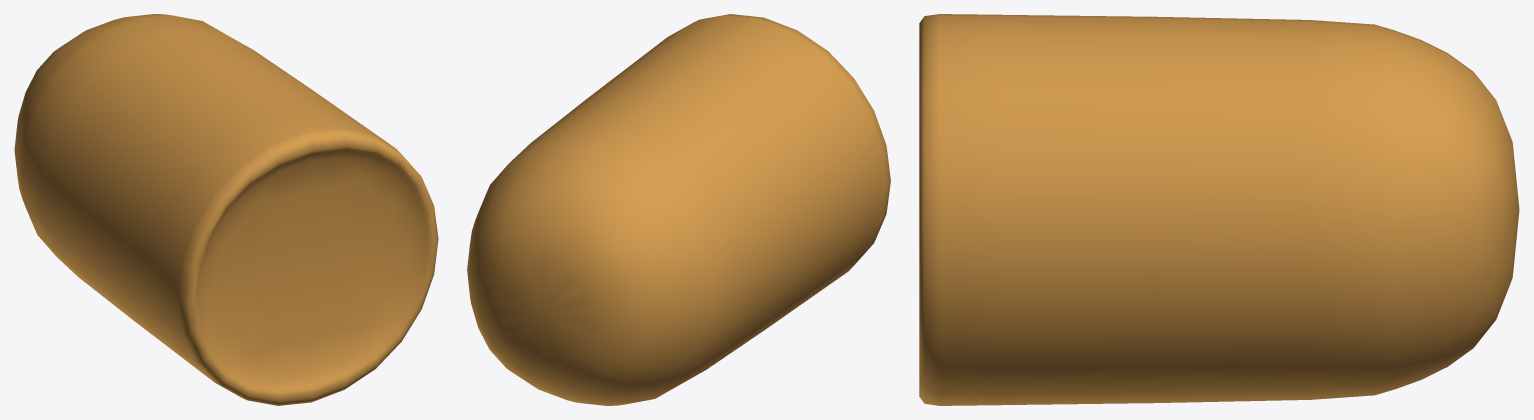
File: Bullet.fbx
3 renders of one model, left to right at view 1: azimuth 30°, elevation 25°; view 2: azimuth 150°, elevation 25°; view 3: azimuth 270°, elevation 25°, orthographic. The views are drawn at different scales.
Parts seen in each view (by area): view 1: Cylinder; view 2: Cylinder; view 3: Cylinder.
Boxes of the visible parts, x1,y1,x2,y2 form: Cylinder: (14, 14, 438, 405); Cylinder: (467, 14, 890, 405); Cylinder: (919, 14, 1519, 405).
Bounding box in the file's own units: 199 × 199 × 303.
